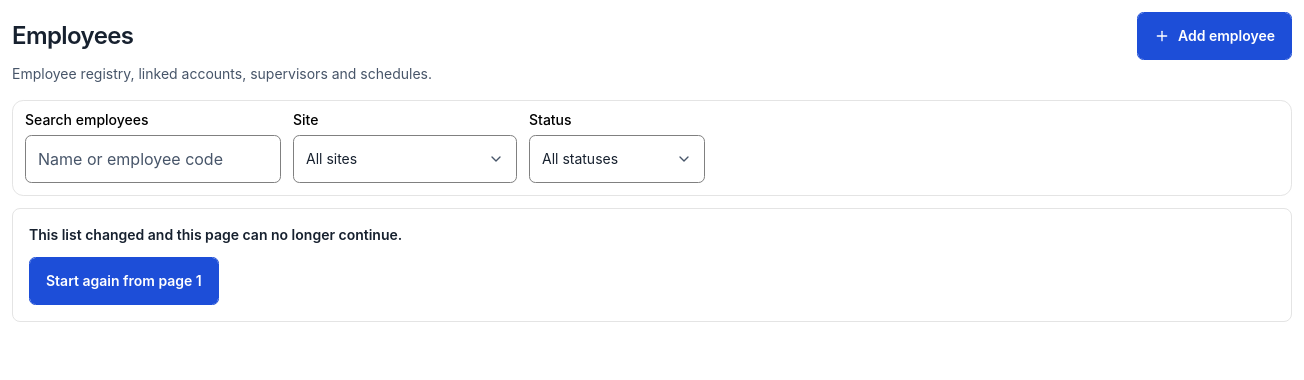
Scenario: terminal reset and stalled scans › recovers a fresh first page that answers reset, and keeps page size enabled
This screenshot has width=1304, height=380.
expect the message with test id "hr-paged-interrupted" is shown: met, box [12,208,1292,322]
Click the button "Start again from page 1" at (124, 281), box [29,257,219,305]
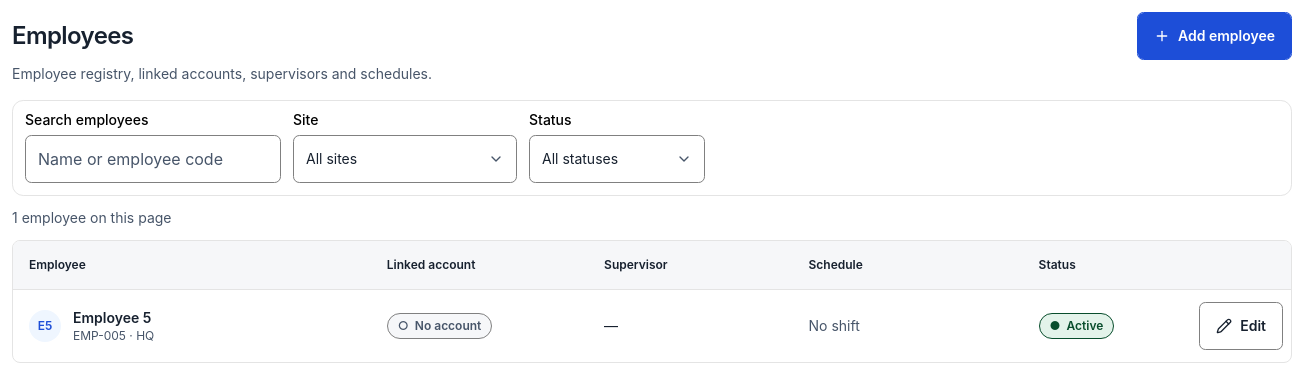
expect the text "Employee 5" is shown: met, box [73,308,154,328]
